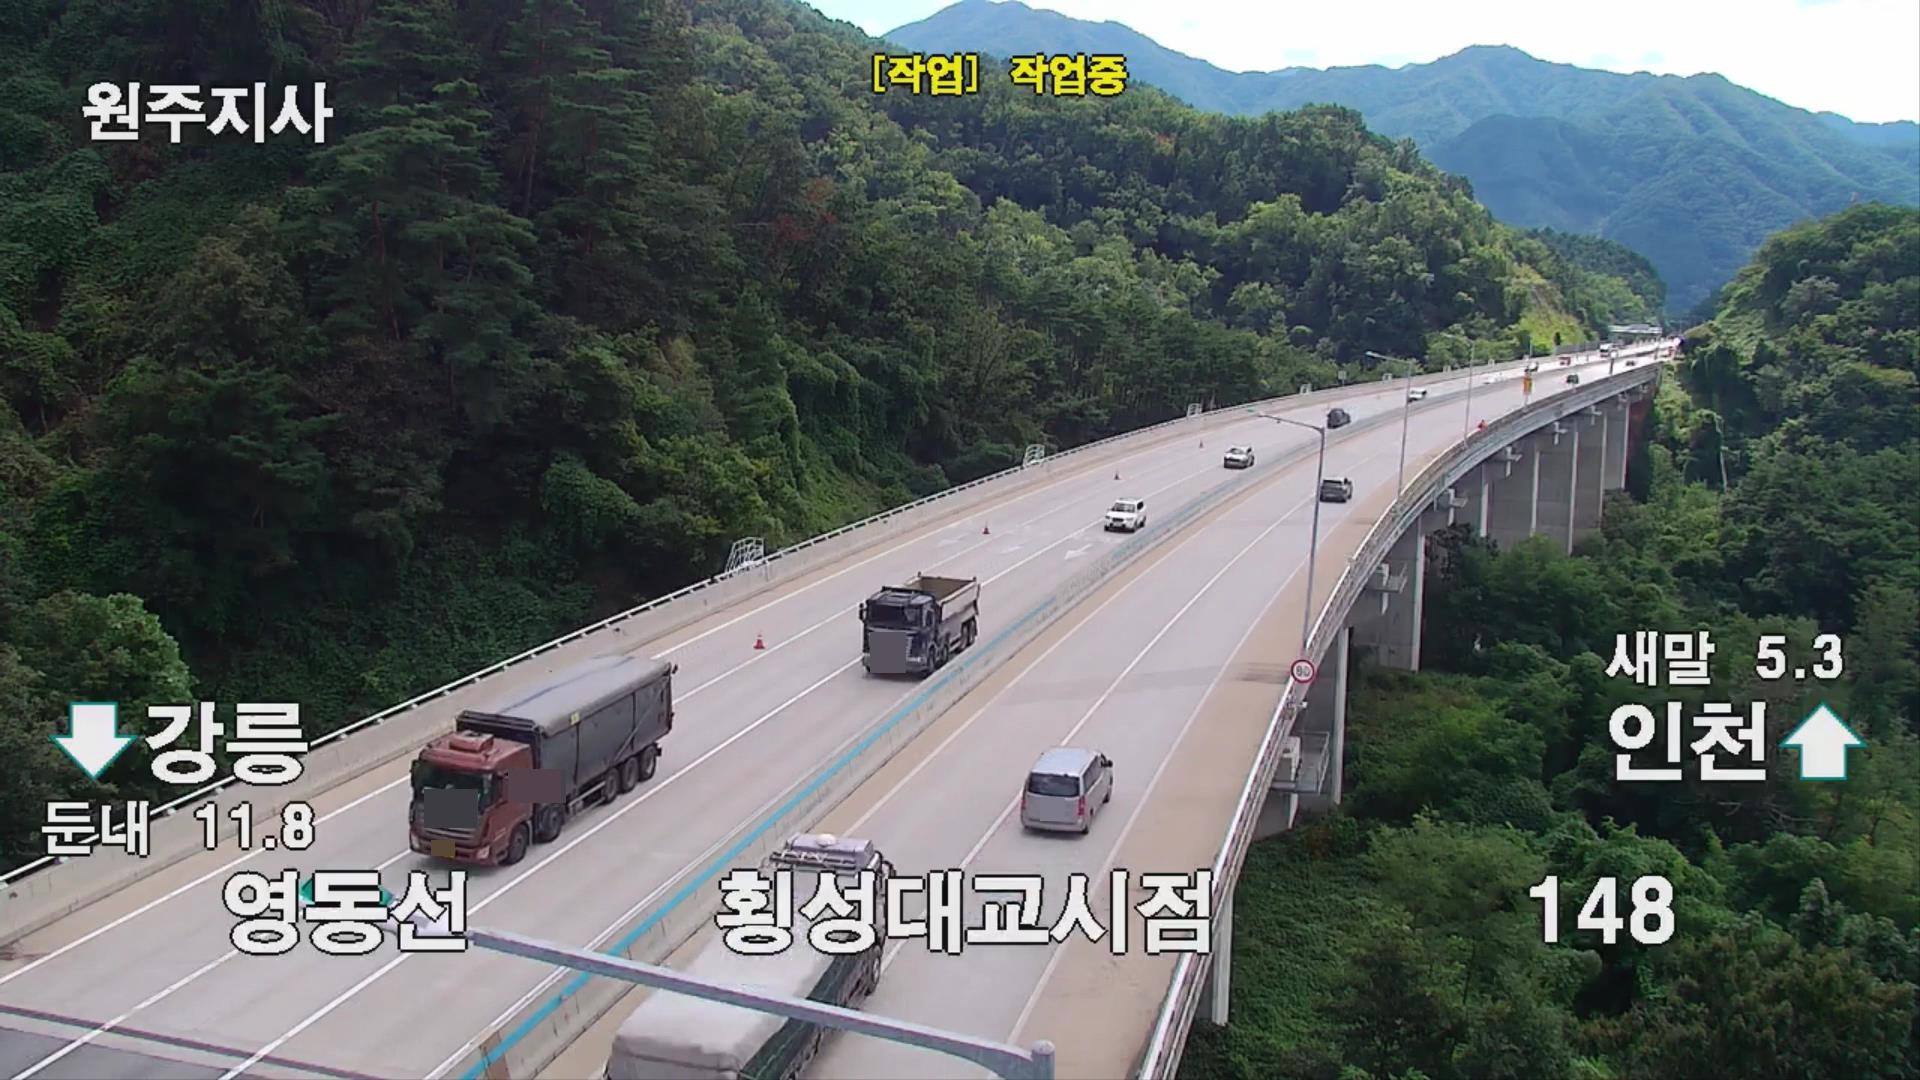정상차량: (409, 653, 678, 865)
